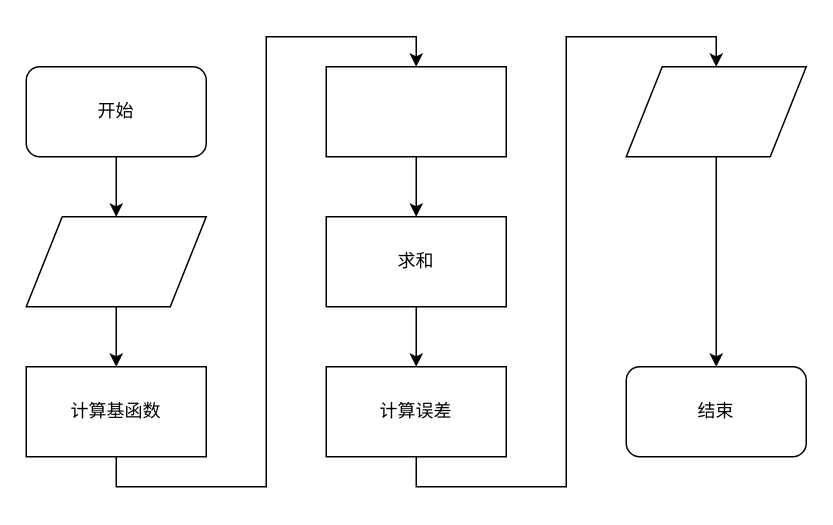
This 833x525 diagram has some shape labels left out. The shapes that lost their labels are listed below. From the top down, each one's centre as x and y in pixels, then its label:
the point at 415,111: 计算差商
the point at 715,111: 输出结果
the point at 115,261: 输入数据点和x
